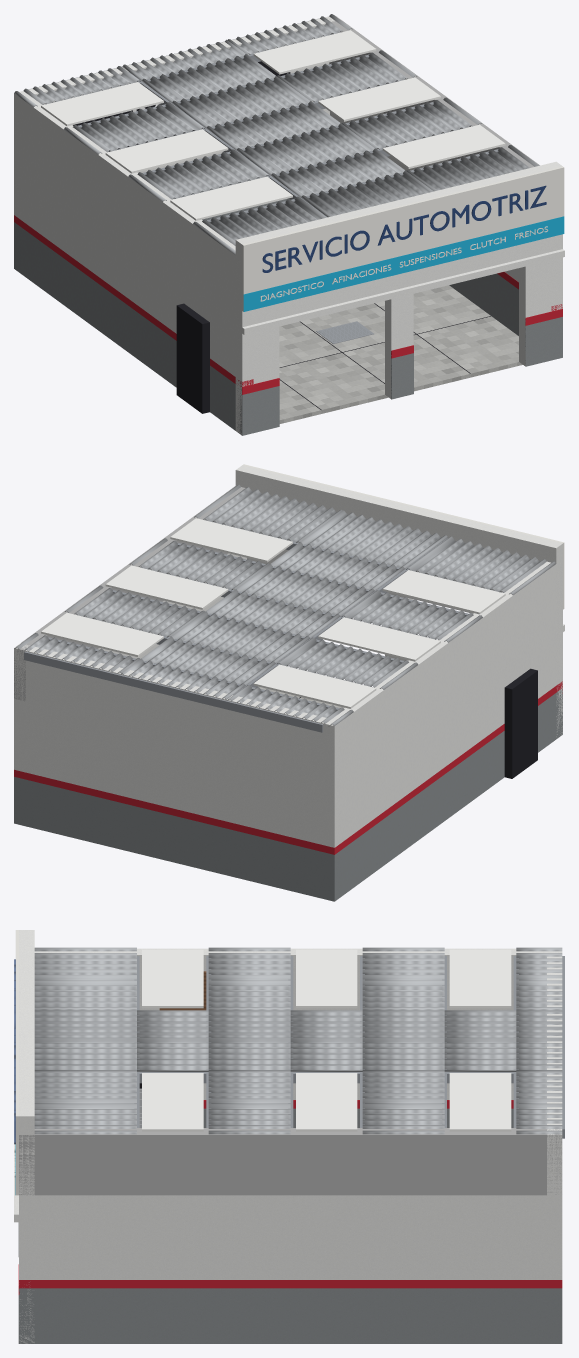
The model's file is Taller_Impala.obj.
The picture shows the model from 3 angles, top to bottom: view 1: azimuth 30°, elevation 25°; view 2: azimuth 150°, elevation 25°; view 3: azimuth 270°, elevation 25°; orthographic projection. The views are drawn at different scales.
Parts seen in each view (by area): view 1: MuroIzq_alto_B, Piso_interior, Banner_fondo, MuroIzq_base_B, Banner_franja_azul, MuroIzq_alto_A, Fachada_poste_izq, Techo_1_4, Techo_1_2, Techo_0_2, Techo_0_4, Techo_2_4 (+37 smaller); view 2: Muro_trasero_alto, MuroIzq_alto_B, Muro_trasero_base, MuroIzq_base_B, Techo_1_0, Techo_0_0, Techo_2_0, MuroIzq_alto_A, Techo_1_4, Techo_1_2, Techo_0_2, Techo_0_4 (+29 smaller); view 3: MuroDer_medio, MuroDer_alto, MuroDer_base, Techo_2_0, Techo_0_0, Techo_1_0, Techo_2_2, Techo_2_4, Techo_0_2, Techo_0_4, Techo_1_2, Techo_1_4 (+23 smaller).
Boxes of the visible parts, x1,y1,x2,y2 form: MuroIzq_alto_B: [14, 92, 188, 333]; Piso_interior: [279, 285, 522, 423]; Banner_fondo: [242, 166, 564, 311]; MuroIzq_base_B: [14, 222, 176, 387]; Banner_franja_azul: [243, 216, 564, 311]; MuroIzq_alto_A: [210, 234, 253, 381]; Fachada_poste_izq: [235, 231, 279, 434]; Techo_1_4: [172, 76, 309, 127]; Techo_1_2: [236, 123, 374, 175]; Techo_0_2: [128, 149, 269, 201]; Techo_0_4: [63, 102, 205, 154]; Techo_2_4: [277, 50, 417, 102]; Muro_trasero_alto: [14, 643, 340, 847]; MuroIzq_alto_B: [323, 600, 504, 846]; Muro_trasero_base: [14, 777, 340, 901]; MuroIzq_base_B: [323, 731, 504, 901]; Techo_1_0: [301, 510, 447, 568]; Techo_0_0: [406, 536, 555, 595]; Techo_2_0: [194, 484, 342, 542]; MuroIzq_alto_A: [521, 561, 562, 698]; Techo_1_4: [172, 611, 310, 663]; Techo_1_2: [236, 564, 374, 615]; Techo_0_2: [341, 590, 482, 642]; Techo_0_4: [276, 637, 418, 689]; MuroDer_medio: [19, 1195, 560, 1279]; MuroDer_alto: [19, 1128, 561, 1195]; MuroDer_base: [19, 1288, 562, 1343]; Techo_2_0: [34, 1071, 136, 1134]; Techo_0_0: [34, 947, 136, 1010]; Techo_1_0: [34, 1010, 136, 1070]; Techo_2_2: [208, 1071, 290, 1134]; Techo_2_4: [362, 1071, 444, 1134]; Techo_0_2: [208, 947, 290, 1010]; Techo_0_4: [362, 947, 444, 1010]; Techo_1_2: [208, 1010, 290, 1070]; Techo_1_4: [362, 1010, 444, 1070].
Size of the model in its own units: 8.8 by 5 by 10.75.
Materials: 18 (18 with a texture image).
